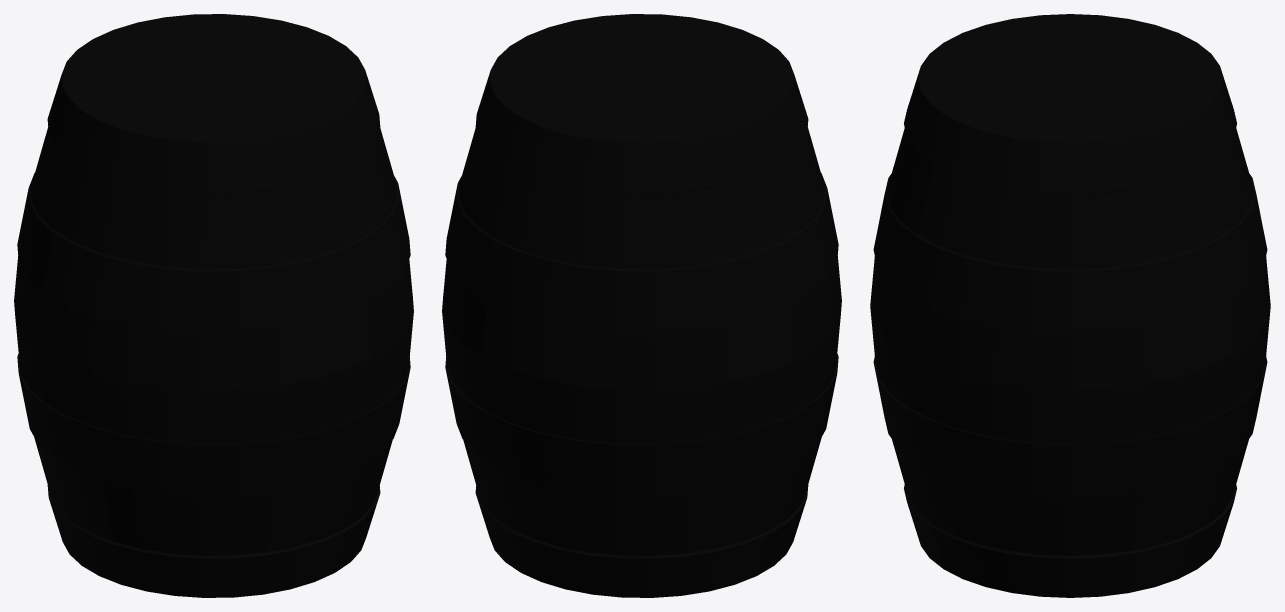
The model's file is dkBarrel.fbx.
The picture shows the model from 3 angles, left to right: view 1: azimuth 30°, elevation 25°; view 2: azimuth 150°, elevation 25°; view 3: azimuth 270°, elevation 25°; orthographic projection.
Visible parts, largest first — view 1: dkBarrel; view 2: dkBarrel; view 3: dkBarrel.
Part boxes in pixels (x1=…): dkBarrel: x1=14, y1=14, x2=413, y2=597; dkBarrel: x1=442, y1=14, x2=841, y2=597; dkBarrel: x1=870, y1=14, x2=1270, y2=597.
Bounding box in the file's own units: 369 × 463 × 369.
